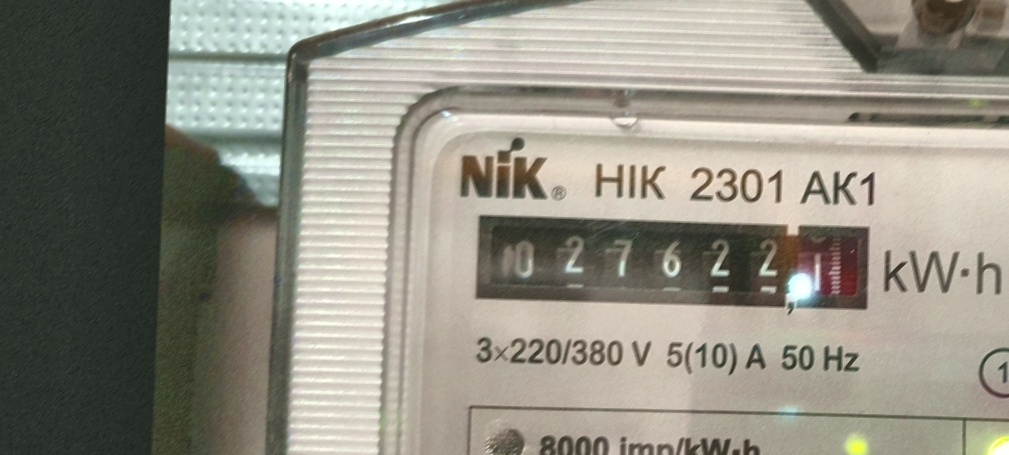0: (512, 236, 539, 279)
1: (809, 249, 827, 293)
2: (708, 235, 734, 278), (563, 232, 588, 276), (758, 235, 782, 277)
6: (661, 236, 684, 278)
7: (611, 236, 636, 280)
screen: (464, 199, 885, 321)
